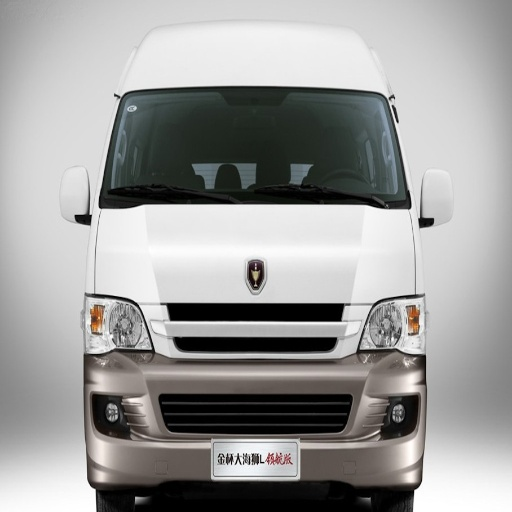front_bumper: (83, 303, 425, 500)
front_right_light: (82, 294, 151, 354)
hood: (95, 205, 260, 303), (271, 204, 417, 303)
left_mirror: (419, 169, 451, 227)
